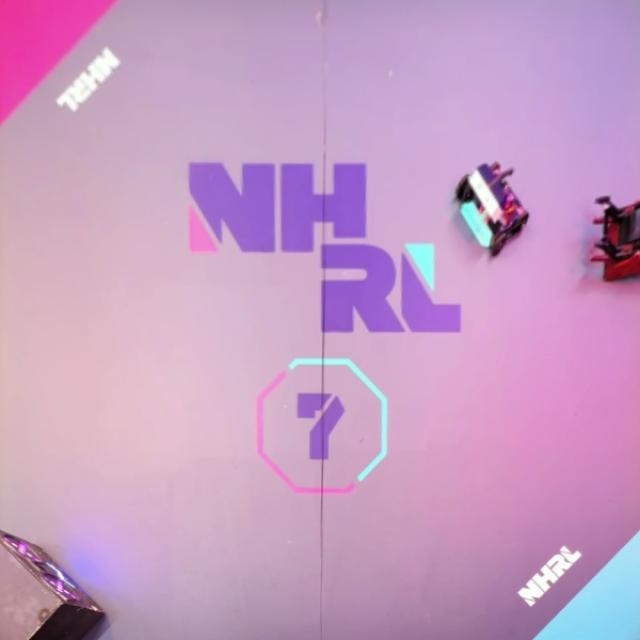housebot: (0, 530, 105, 640)
robot: (454, 160, 530, 256), (589, 196, 640, 282)
